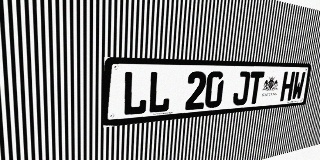0: (204, 71, 225, 109)
2: (185, 71, 207, 110)
H: (280, 71, 295, 101)
J: (232, 71, 251, 106)
L: (122, 71, 148, 116), (147, 71, 172, 114)
T: (247, 71, 265, 104)
W: (291, 72, 306, 100)
